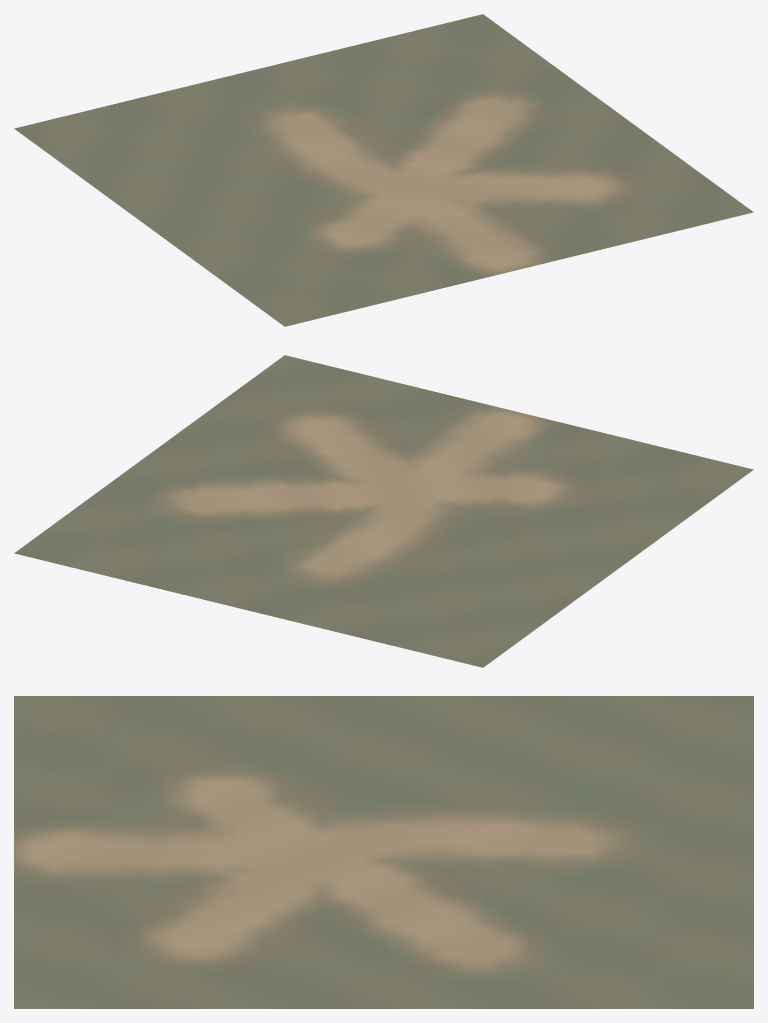
File: env_ground_market_a.glb
The picture shows the model from 3 angles, top to bottom: view 1: azimuth 30°, elevation 25°; view 2: azimuth 150°, elevation 25°; view 3: azimuth 270°, elevation 25°; orthographic projection. The views are drawn at different scales.
Parts seen in each view (by area): view 1: lod0__env_ground_market_a; view 2: lod0__env_ground_market_a; view 3: lod0__env_ground_market_a.
Boxes of the visible parts, x1,y1,x2,y2 form: lod0__env_ground_market_a: (14,14,753,326); lod0__env_ground_market_a: (14,355,753,667); lod0__env_ground_market_a: (14,696,753,1008).
Size of the model in its own units: 32 by 0 by 32.
Materials: 1 (1 with a texture image).
